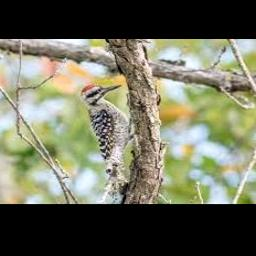Woodpecker: (81, 84, 134, 204)
